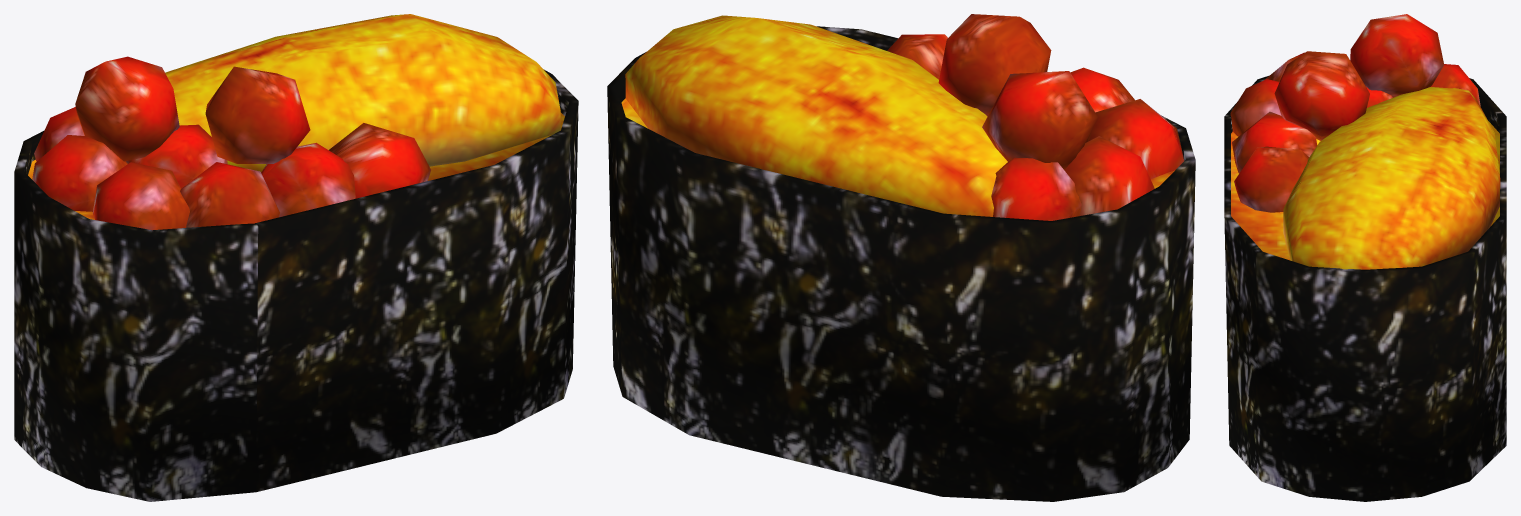
File: uniikura.fbx
3 views of the same model, side by side, from view 1: azimuth 30°, elevation 25°; view 2: azimuth 150°, elevation 25°; view 3: azimuth 270°, elevation 25° (orthographic). The views are drawn at different scales.
Visible parts, largest first — view 1: uniikura; view 2: uniikura; view 3: uniikura.
Boxes of the visible parts, x1,y1,x2,y2 form: uniikura: [14, 14, 578, 501]; uniikura: [607, 14, 1195, 501]; uniikura: [1224, 14, 1506, 501].
Size of the model in its own units: 5.61 by 3.84 by 3.14.
